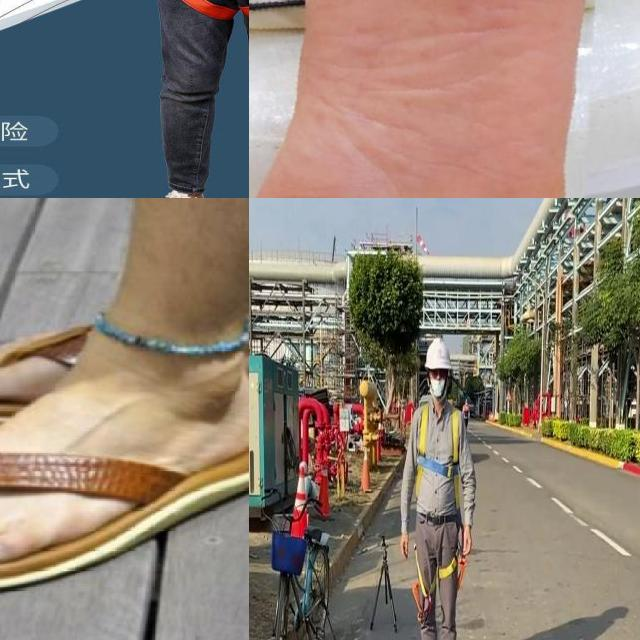Barefoots: (255, 0, 606, 198)
Harness: (416, 403, 461, 510), (412, 548, 467, 624)
Sandals: (0, 381, 249, 624), (0, 293, 249, 432)
